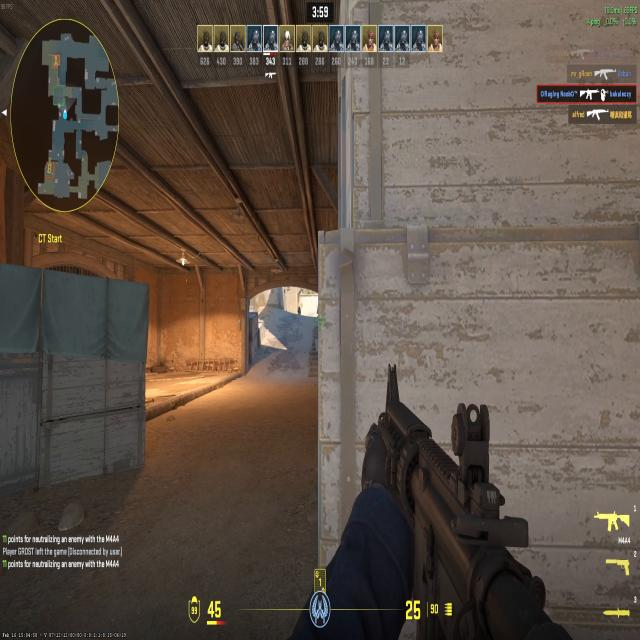player: (295, 303, 303, 318)
